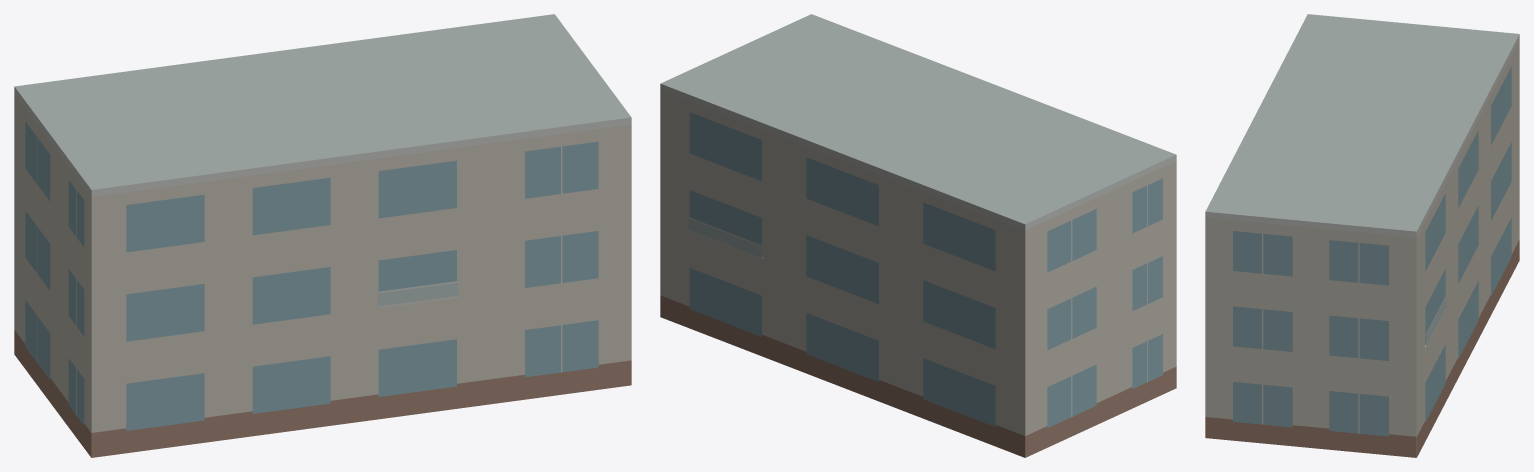
File: survey-upis-32969840.glb
3 views of the same model, side by side, from view 1: azimuth 30°, elevation 25°; view 2: azimuth 150°, elevation 25°; view 3: azimuth 270°, elevation 25° (orthographic). The views are drawn at different scales.
Visible parts, largest first — view 1: survey-upis-32969840.tmp; view 2: survey-upis-32969840.tmp; view 3: survey-upis-32969840.tmp.
Boxes of the visible parts, <box> form: survey-upis-32969840.tmp: <box>14,14,631,457</box>; survey-upis-32969840.tmp: <box>660,14,1176,457</box>; survey-upis-32969840.tmp: <box>1205,14,1519,457</box>.
Bounding box in the file's own units: 18.87 × 9.15 × 11.53.
